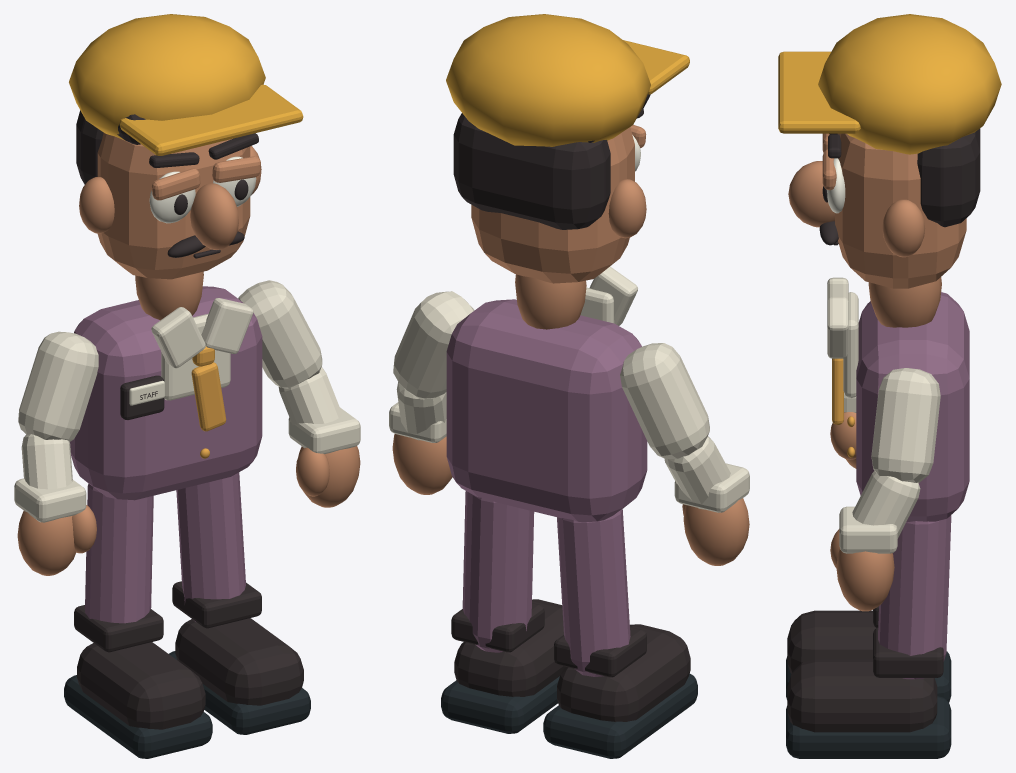
File: worker_runner.glb
The picture shows the model from 3 angles, left to right: view 1: azimuth 30°, elevation 25°; view 2: azimuth 150°, elevation 25°; view 3: azimuth 270°, elevation 25°; orthographic projection. The views are drawn at different scales.
Visible parts, largest first — view 1: worker_runner; view 2: worker_runner; view 3: worker_runner.
Boxes of the visible parts, bbox=[...] form: worker_runner: bbox=[14, 14, 360, 758]; worker_runner: bbox=[389, 14, 749, 758]; worker_runner: bbox=[778, 14, 1001, 758].
Bounding box in the file's own units: 1.3 × 2.49 × 0.73.
